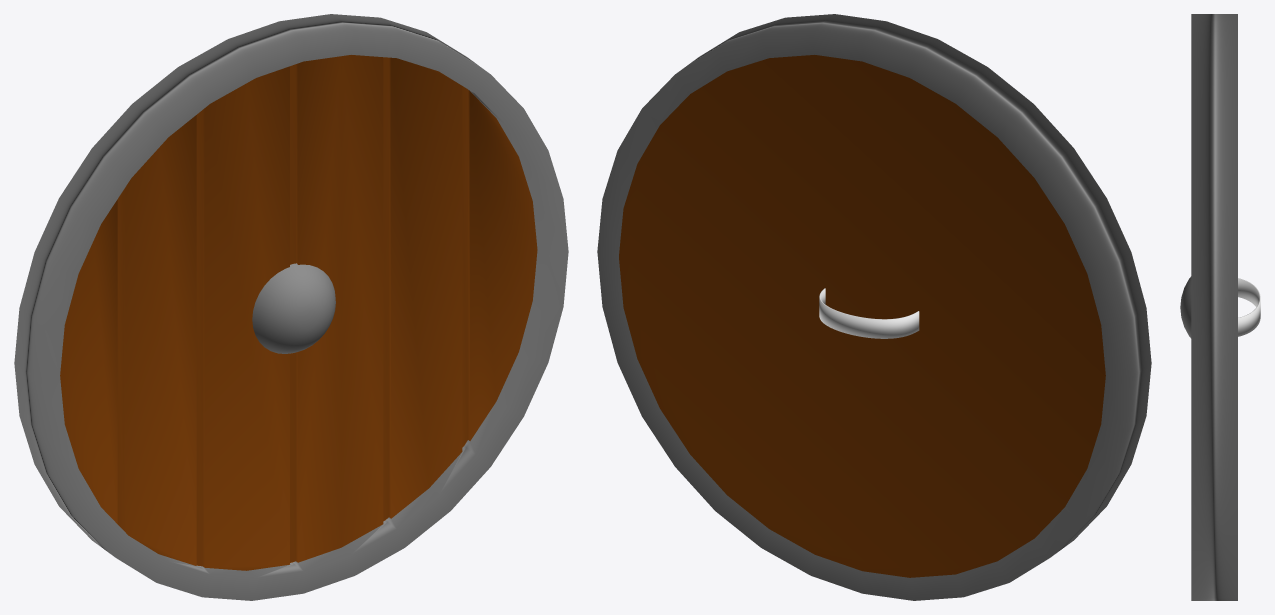
File: Shield.fbx
The picture shows the model from 3 angles, left to right: view 1: azimuth 30°, elevation 25°; view 2: azimuth 150°, elevation 25°; view 3: azimuth 270°, elevation 25°; orthographic projection. The views are drawn at different scales.
Parts seen in each view (by area): view 1: Cylinder.007; view 2: Cylinder.007, NurbsPath; view 3: Cylinder.007, NurbsPath.
Boxes of the visible parts, bbox=[...] form: Cylinder.007: bbox=[14, 14, 568, 600]; Cylinder.007: bbox=[597, 14, 1151, 600]; NurbsPath: bbox=[819, 288, 919, 338]; Cylinder.007: bbox=[1180, 14, 1237, 600]; NurbsPath: bbox=[1238, 278, 1260, 336].
Bounding box in the file's own units: 352 × 352 × 48.1.
